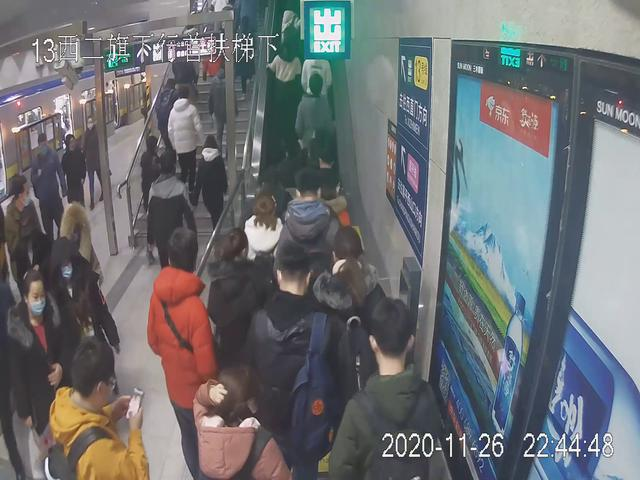person: (325, 297, 463, 480), (148, 220, 242, 480), (253, 247, 342, 474), (41, 338, 158, 478), (7, 265, 81, 480), (199, 227, 275, 400), (143, 152, 200, 306), (5, 167, 54, 319), (161, 84, 200, 212), (298, 70, 336, 178), (200, 133, 230, 234), (57, 129, 84, 222)
